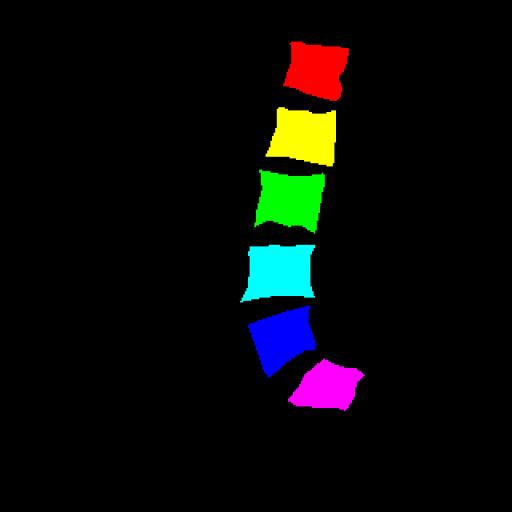L1: (283, 42, 349, 100)
L2: (266, 107, 336, 166)
L3: (255, 170, 325, 232)
L4: (243, 246, 315, 302)
L5: (249, 306, 315, 376)
S1: (288, 359, 364, 410)
